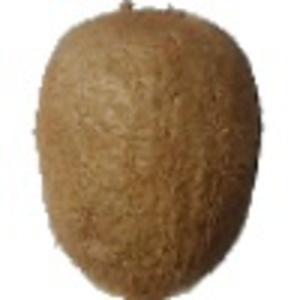kiwi: (27, 1, 263, 300)
